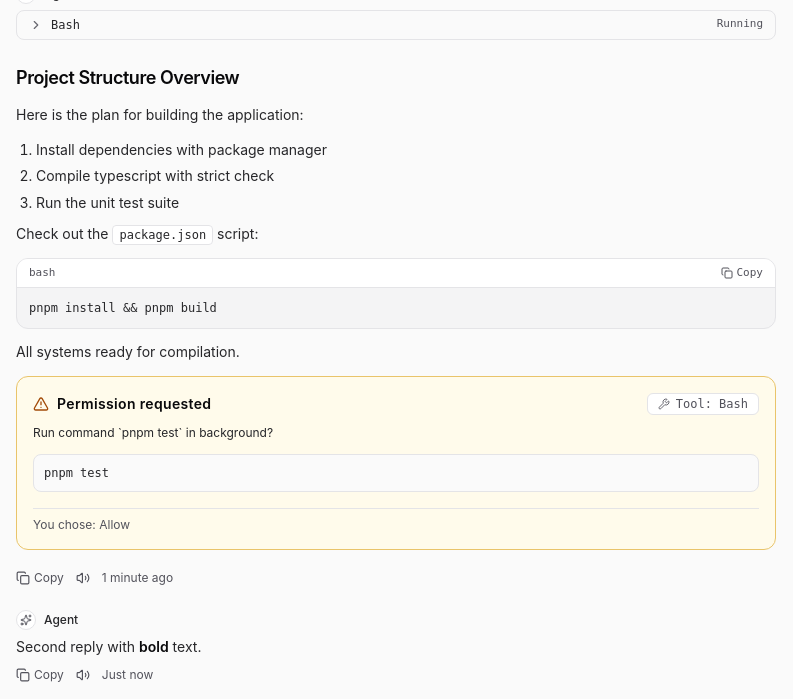
ChatCanvas Component › keeps a single speaker when Read aloud is clicked on a second message
The width and height of the screenshot is (793, 699).
(page scrolled)
Click the button named "read aloud" next to "1 minute ago" at [83, 578], box [76, 571, 90, 585]
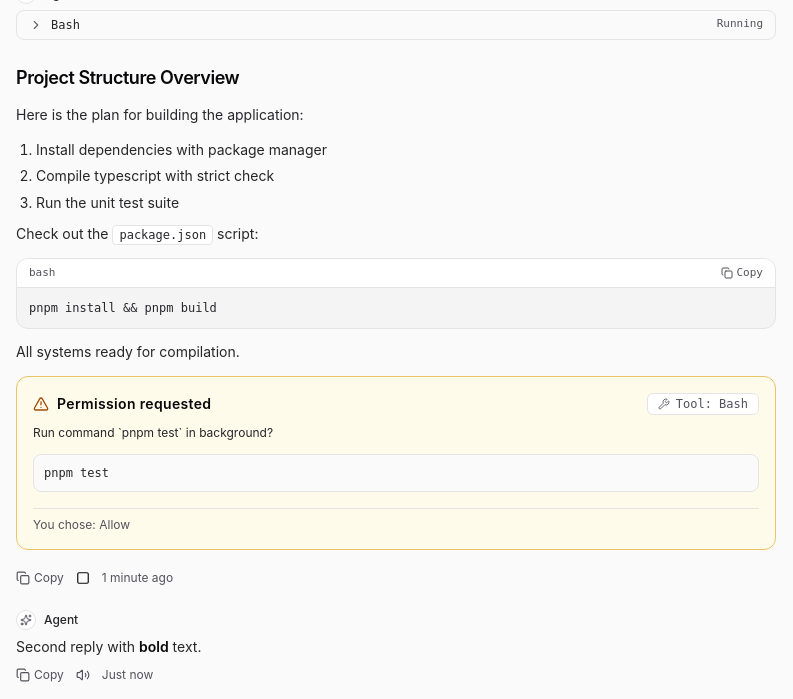
Click the button named "read aloud" at [83, 675], box [76, 668, 90, 682]
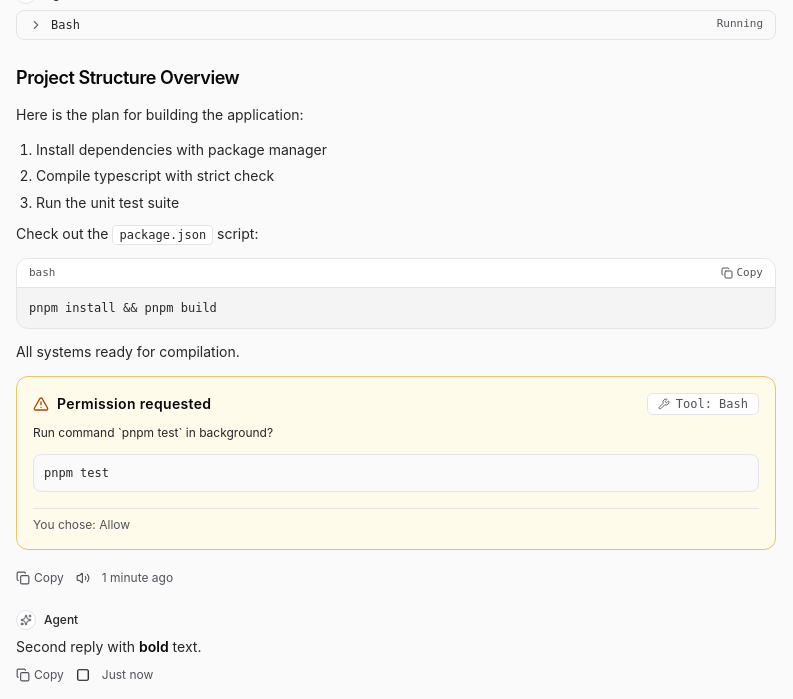
Expected: the number of buttons named "stop reading" is 1, [76, 668, 90, 682]
Now the button named "stop reading" is shown, box [76, 668, 90, 682]
Now the button named "read aloud" is shown, box [76, 571, 90, 585]
